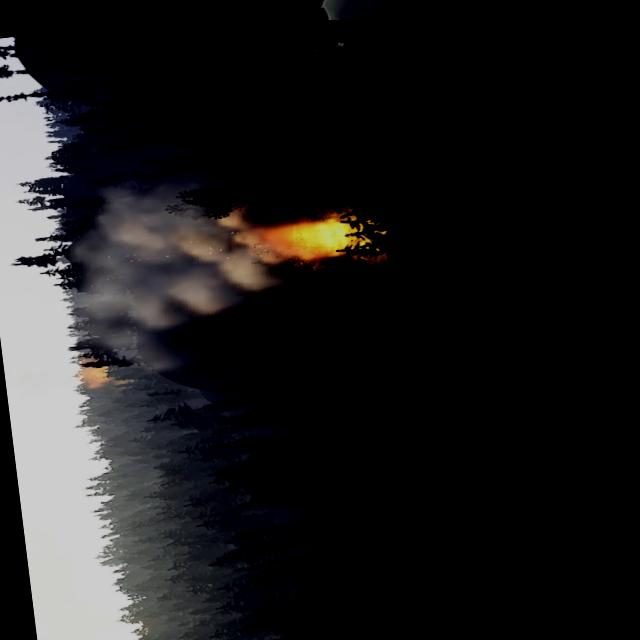fire: (248, 210, 376, 274), (78, 355, 116, 388)
smoke: (51, 156, 280, 380)
